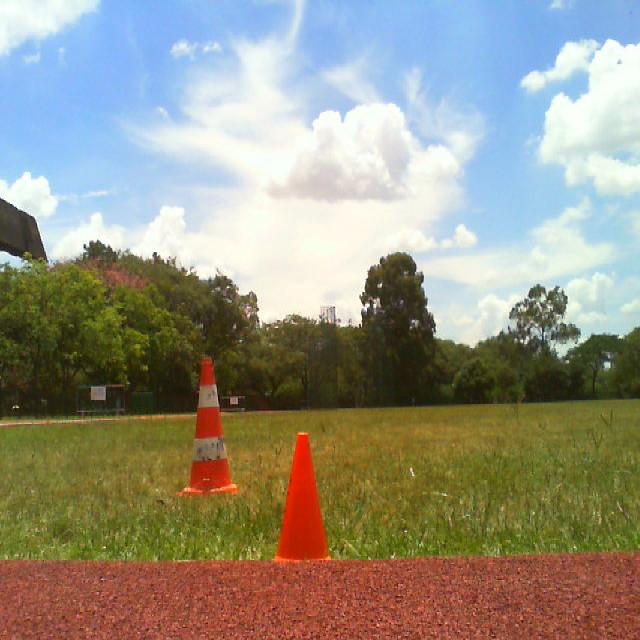cone: (177, 359, 238, 496), (274, 432, 332, 561)
